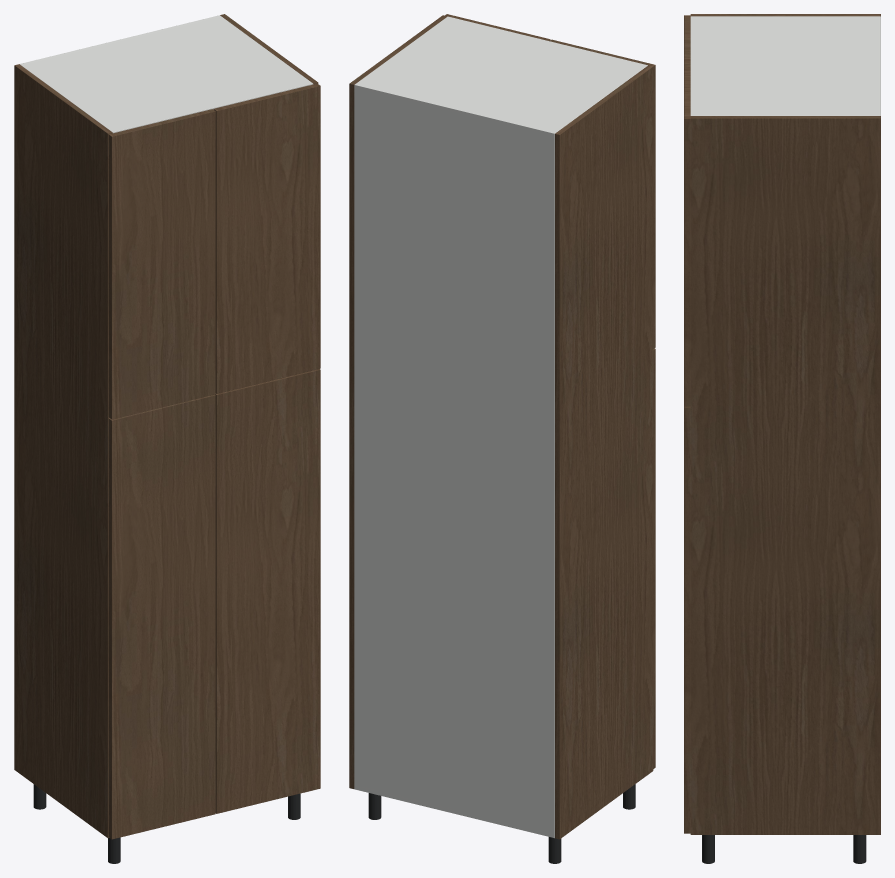
Rendered from oppein-pb-mso-pc3096.glb.
The picture shows the model from 3 angles, left to right: view 1: azimuth 30°, elevation 25°; view 2: azimuth 150°, elevation 25°; view 3: azimuth 270°, elevation 25°; orthographic projection.
Parts seen in each view (by area): view 1: Cabinet side, Door, Door.001, Door.002, Door.003, Cabinet top; view 2: Cabinet back, Cabinet side, Cabinet top, Cabinet side.001, Door, Door.002; view 3: Cabinet side.001, Cabinet top, Door.001, Door.003, Cabinet side, Cabinet back, Adjustable foot.002.
Boxes of the visible parts, <box> form: Cabinet side: <box>14,64,112,837</box>; Door: <box>108,394,215,839</box>; Door.001: <box>215,369,320,813</box>; Door.002: <box>108,109,215,419</box>; Door.003: <box>213,83,320,393</box>; Cabinet top: <box>21,16,313,133</box>; Cabinet back: <box>354,83,556,838</box>; Cabinet side: <box>555,65,653,839</box>; Cabinet top: <box>356,16,647,138</box>; Cabinet side.001: <box>349,15,447,788</box>; Door: <box>653,348,655,768</box>; Door.002: <box>549,39,655,348</box>; Cabinet side.001: <box>690,116,880,834</box>; Cabinet top: <box>690,16,876,115</box>; Door.001: <box>684,406,690,833</box>; Door.003: <box>684,67,690,406</box>; Cabinet side: <box>690,14,880,16</box>; Cabinet back: <box>877,16,880,115</box>; Adjustable foot.002: <box>853,835,866,863</box>.
Bounding box in the file's own units: 0.762 × 2.55 × 0.6064.
Materials: 3 (1 with a texture image).
